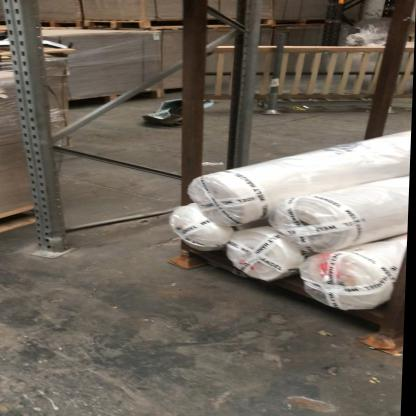vertical_damage: (26, 221, 84, 259)
